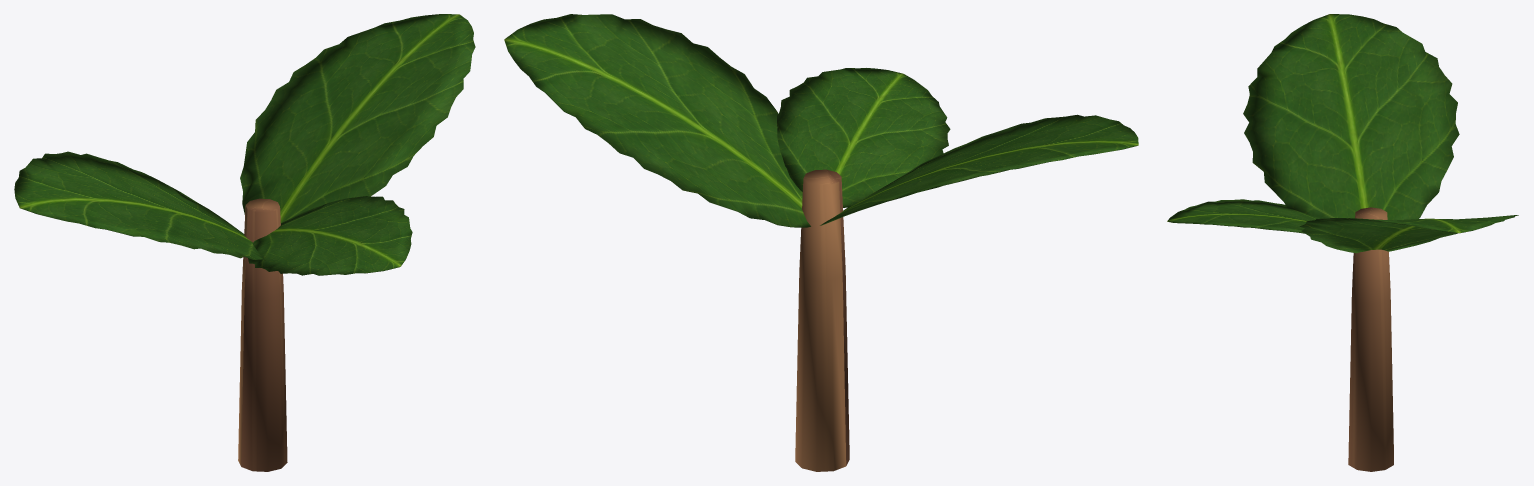
The model's file is NP_Blackberry_Sprout_LOD1.fbx.
3 views of the same model, side by side, from view 1: azimuth 30°, elevation 25°; view 2: azimuth 150°, elevation 25°; view 3: azimuth 270°, elevation 25° (orthographic). The views are drawn at different scales.
Visible parts, largest first — view 1: NP_Blackberry_Sprout; view 2: NP_Blackberry_Sprout; view 3: NP_Blackberry_Sprout.
Part boxes in pixels (left/top/right/bottom): NP_Blackberry_Sprout: left=14, top=14, right=475, bottom=471; NP_Blackberry_Sprout: left=504, top=14, right=1138, bottom=471; NP_Blackberry_Sprout: left=1167, top=14, right=1518, bottom=471.
Size of the model in its own units: 37.71 by 25.42 by 23.51.
